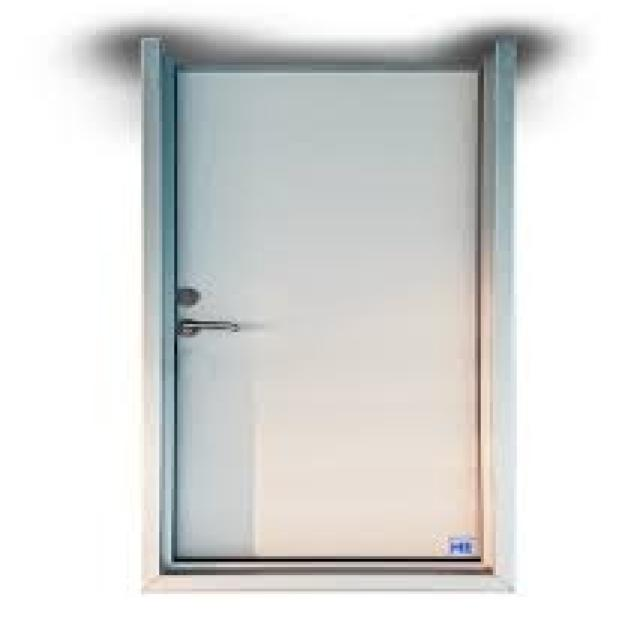door: (165, 55, 490, 574)
